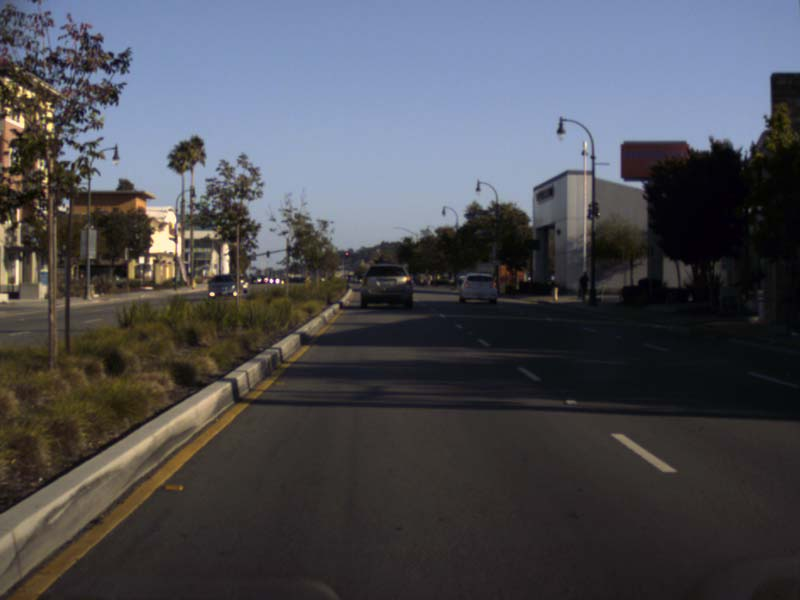Red: (344, 250, 348, 257)
